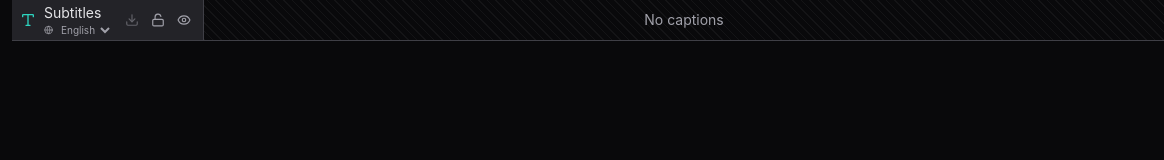
CaptionTrack › Track Controls › shows a disabled context menu item when no caption swap targets exist
Right-click the element with test id "caption-track-header" at {"x": 108, "y": 20}, box left=12, top=0, right=204, bottom=40
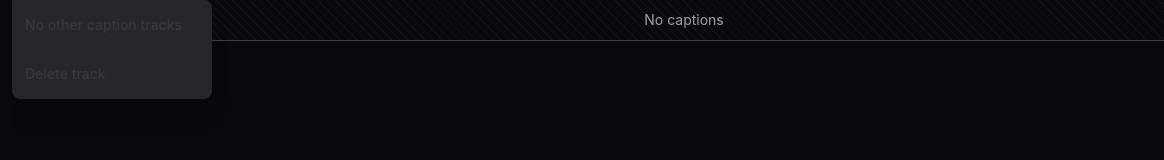
Expected: the button "No other caption tracks" is disabled, left=13, top=7, right=211, bottom=43
